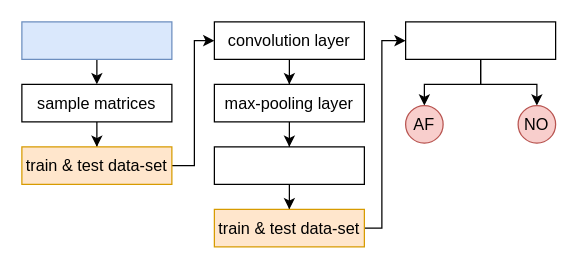
This 578x269 diagram has some shape labels left out. The shapes that lost their labels are listed below. From the top down, each one's centre as x and y in pixels, then its label:
the point at 96,40: BSPM System
the point at 480,40: SVM classifier
the point at 288,165: flatten feature map
